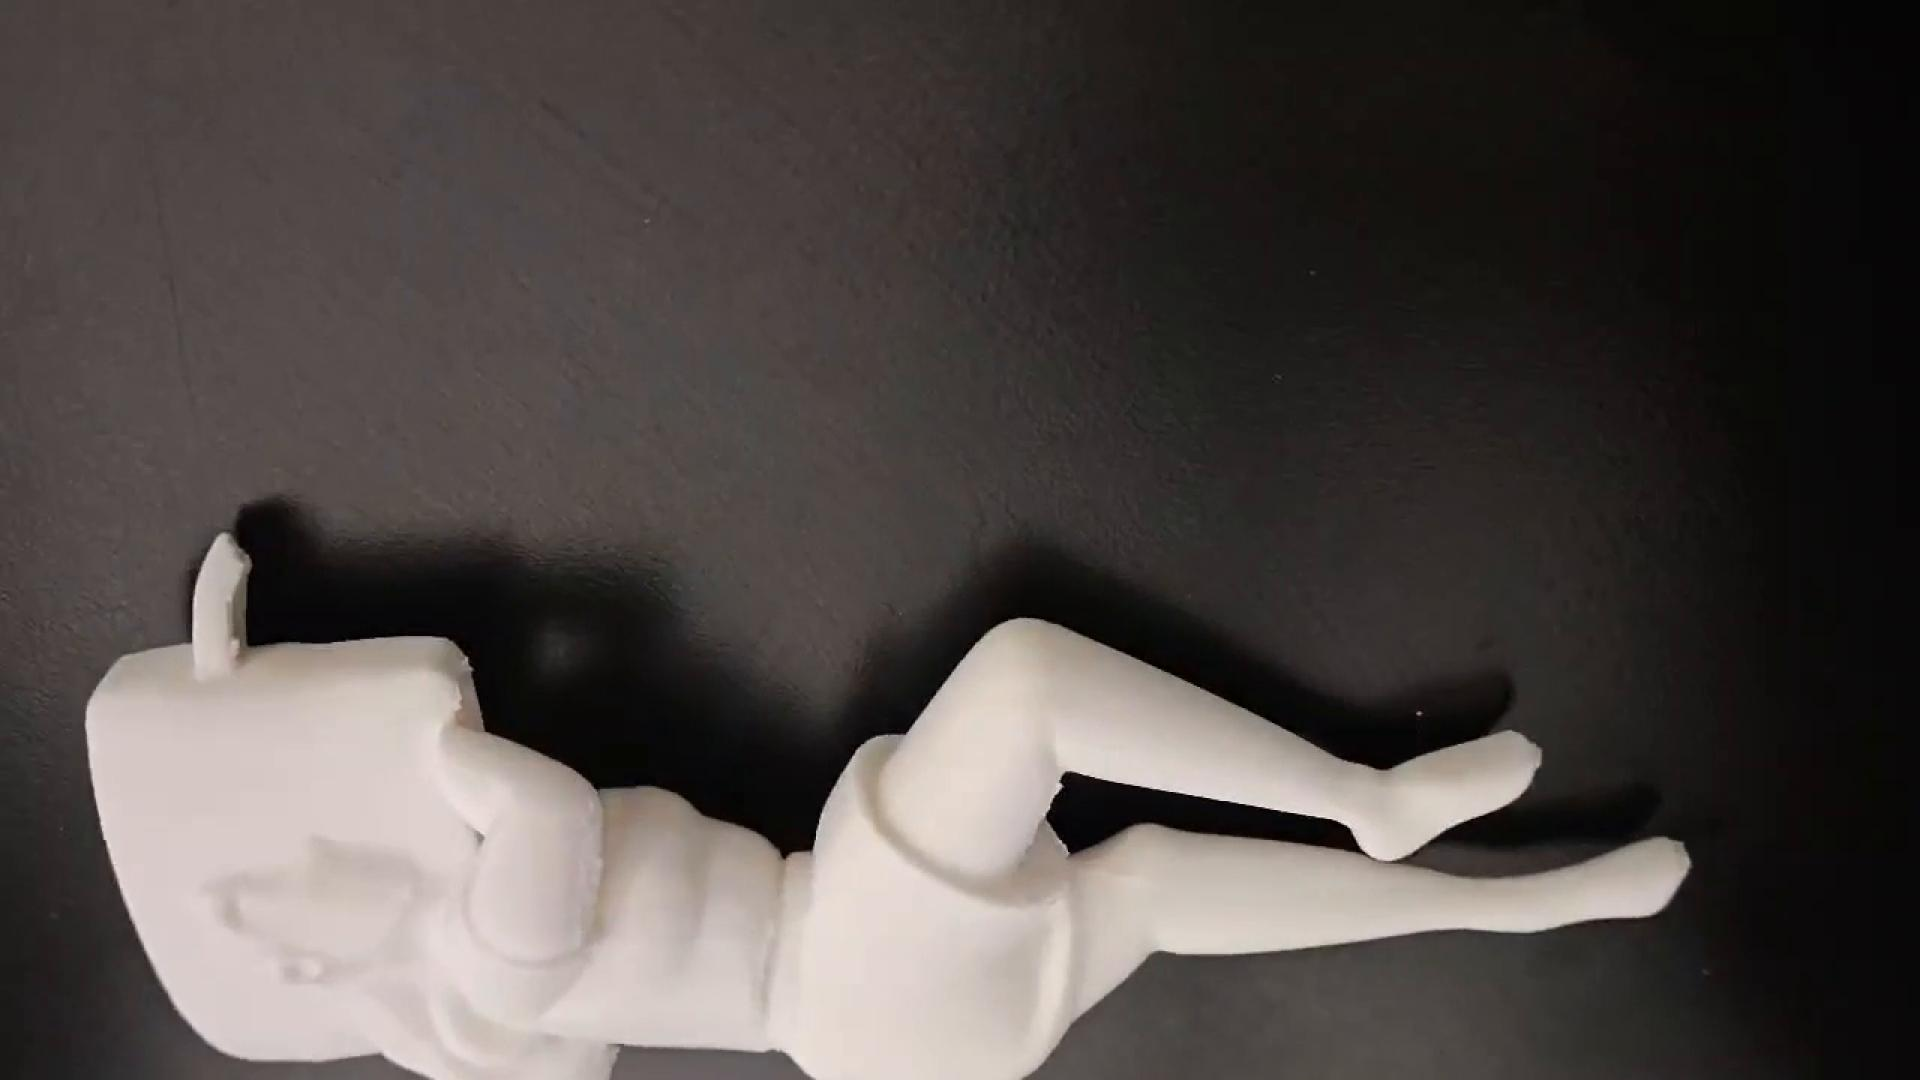Good-style: (84, 529, 1695, 1080)
